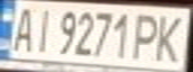1: (109, 9, 136, 60)
2: (72, 7, 96, 57)
7: (90, 8, 115, 59)
9: (54, 6, 78, 56)
A: (6, 2, 39, 53)
I: (30, 3, 57, 54)
K: (151, 10, 190, 63)
P: (130, 10, 166, 62)
